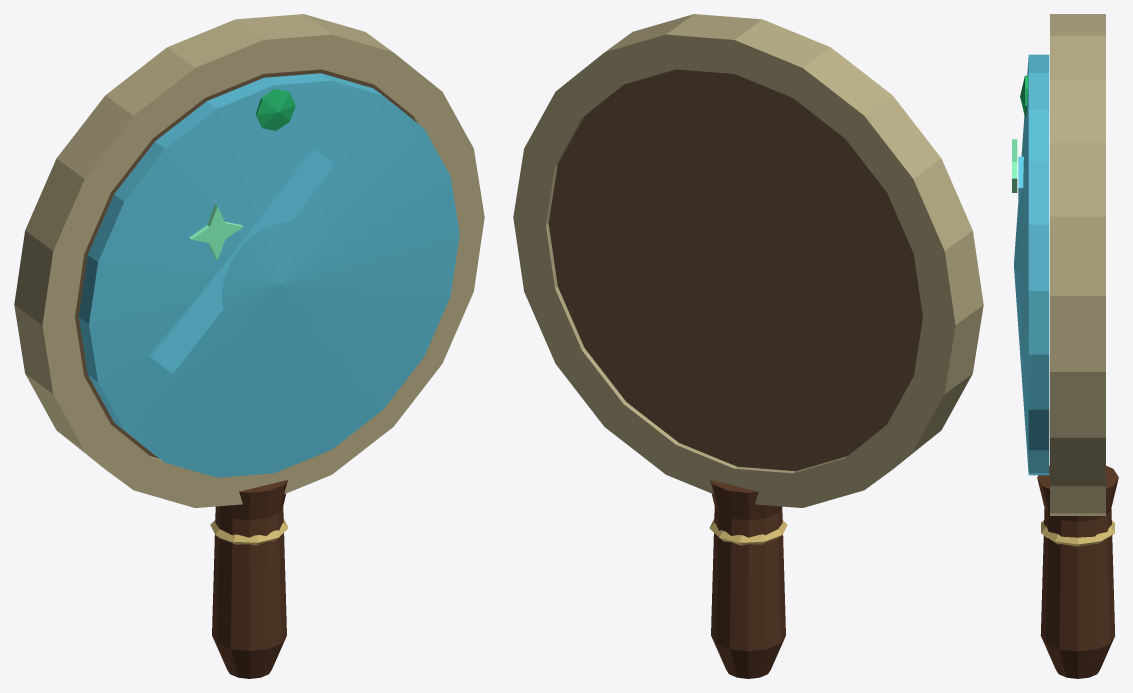
File: bronze_round.obj
3 views of the same model, side by side, from view 1: azimuth 30°, elevation 25°; view 2: azimuth 150°, elevation 25°; view 3: azimuth 270°, elevation 25° (orthographic).
Parts seen in each view (by area): view 1: bronze_glass, bronze_frame, legacy_handle, legacy_glint_broad, bronze_back, legacy_mirror_gem, legacy_mirror_glint, legacy_handle_ring; view 2: bronze_back, bronze_frame, legacy_handle, legacy_handle_ring; view 3: bronze_frame, bronze_glass, legacy_handle, legacy_handle_ring, legacy_mirror_glint_edge, legacy_glint_broad_edge, legacy_mirror_gem.
Boxes of the visible parts, left/top/right/bottom form: bronze_glass: left=78, top=73, right=459, bottom=477; bronze_frame: left=14, top=14, right=484, bottom=507; legacy_handle: left=212, top=480, right=287, bottom=678; legacy_glint_broad: left=152, top=148, right=335, bottom=373; bronze_back: left=75, top=69, right=416, bottom=458; legacy_mirror_gem: left=255, top=89, right=295, bottom=130; legacy_mirror_glint: left=192, top=206, right=242, bottom=259; legacy_handle_ring: left=210, top=519, right=288, bottom=545; bronze_back: left=548, top=69, right=922, bottom=471; bronze_frame: left=513, top=14, right=983, bottom=507; legacy_handle: left=710, top=480, right=785, bottom=678; legacy_handle_ring: left=709, top=519, right=787, bottom=545; bronze_frame: left=1050, top=14, right=1105, bottom=515; bronze_glass: left=1014, top=54, right=1049, bottom=475; legacy_handle: left=1037, top=466, right=1118, bottom=678; legacy_handle_ring: left=1041, top=520, right=1114, bottom=546; legacy_mirror_glint_edge: left=1012, top=139, right=1017, bottom=192; legacy_glint_broad_edge: left=1018, top=156, right=1023, bottom=212; legacy_mirror_gem: left=1020, top=75, right=1028, bottom=117.
Bounding box in the file's own units: 1.36 × 1.88 × 0.2872.
